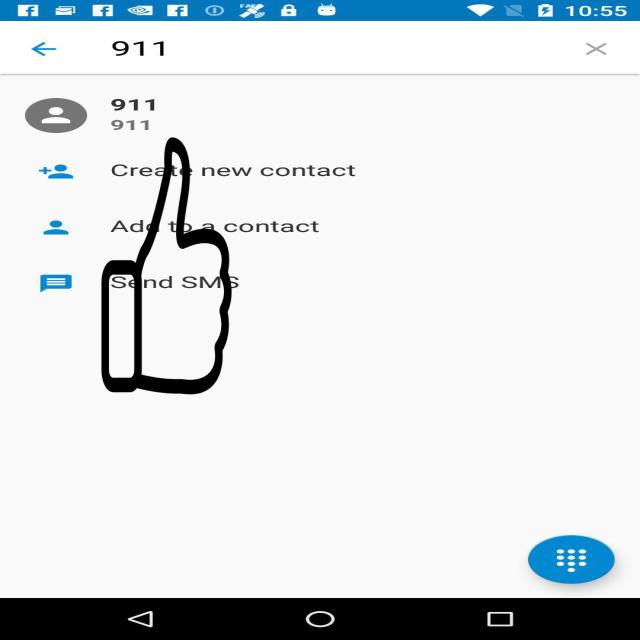privacy zuckering: (100, 138, 233, 394)
